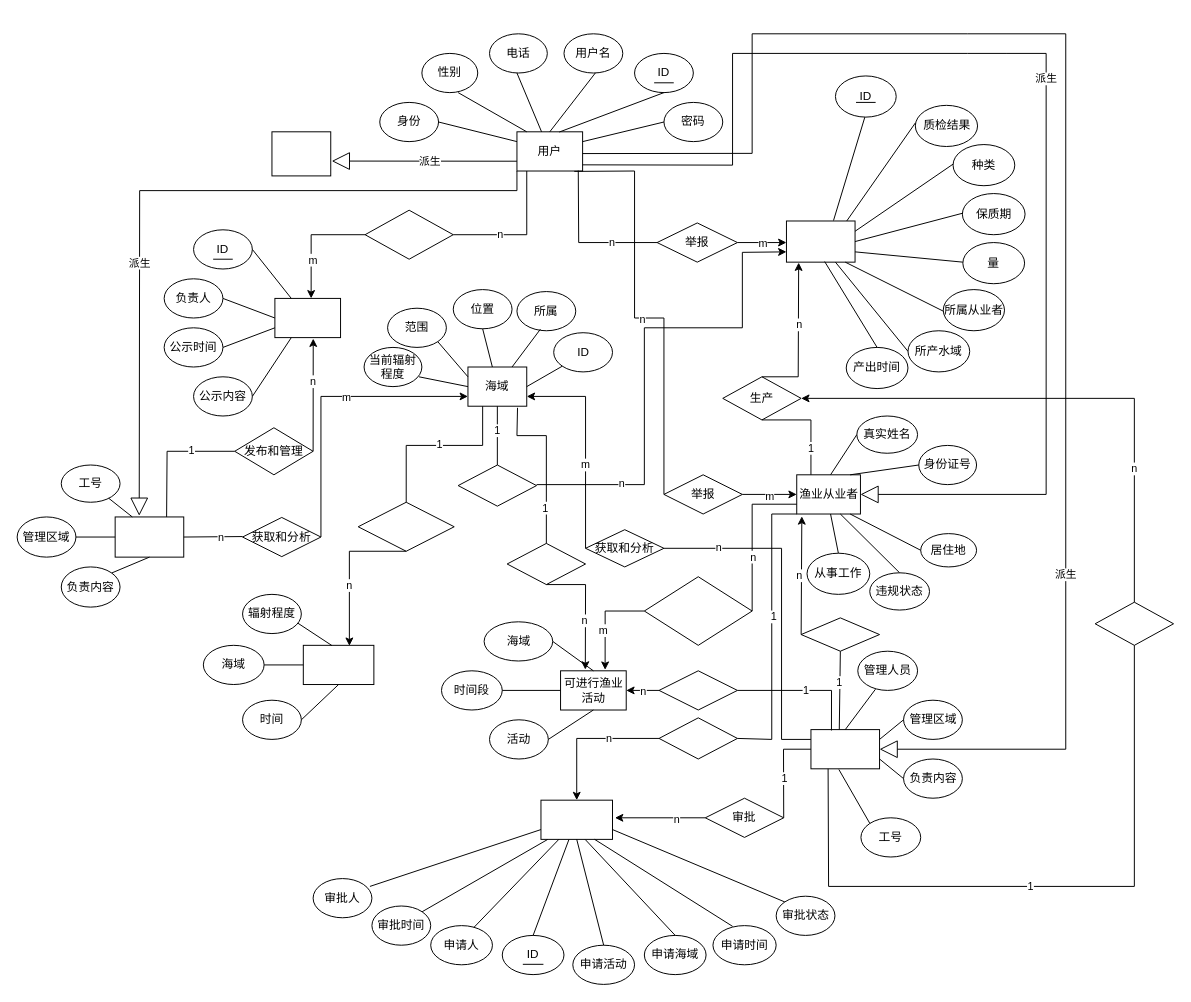
The diagram is 1191 pixels wide and 1002 high, and some of its shapes have lost their labels. The centre of each missing label's shape, as x and y in pixels:
一般用户: point 301,153
产出: point 497,485
公示信息: point 307,317
历史辐射程度: point 338,664
发布: point 697,690
发起: point 697,738
可进行: point 546,563
在不同时间拥有: point 405,526
查看: point 697,610
检索查看: point 408,234
水产品: point 820,241
渔业管理人员: point 845,749
环境管理人员: point 149,536
申请: point 576,819
登记和管理: point 1134,623
管理: point 840,634
